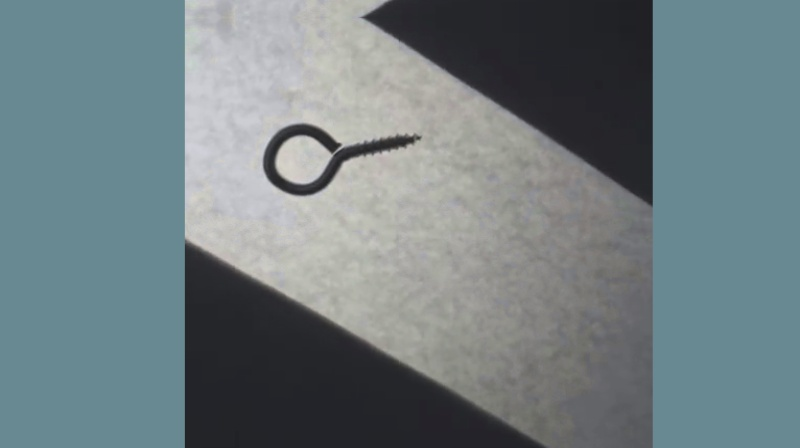O001: (260, 118, 426, 200)
